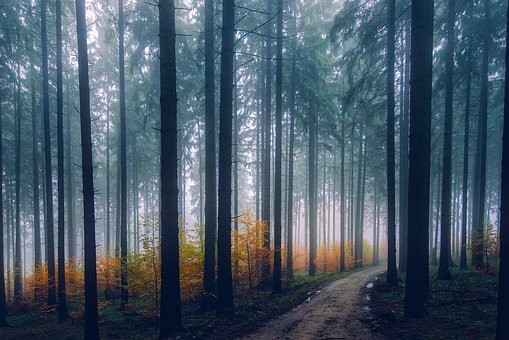forest: (5, 5, 499, 330)
